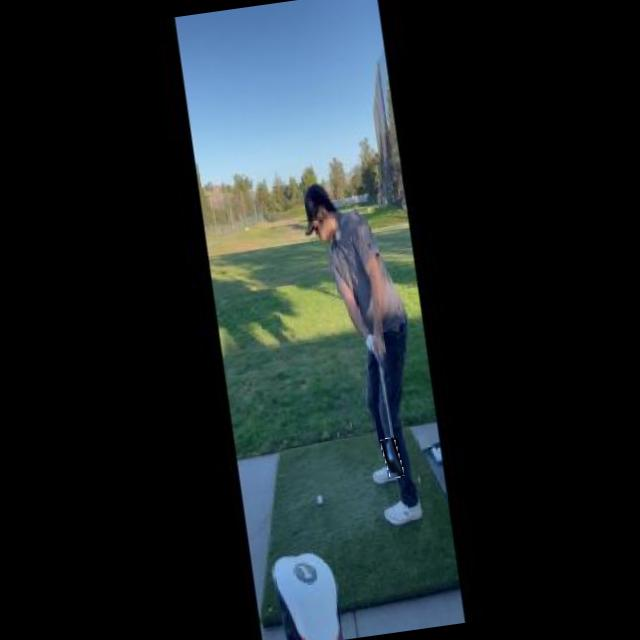club head: (382, 437, 404, 479)
